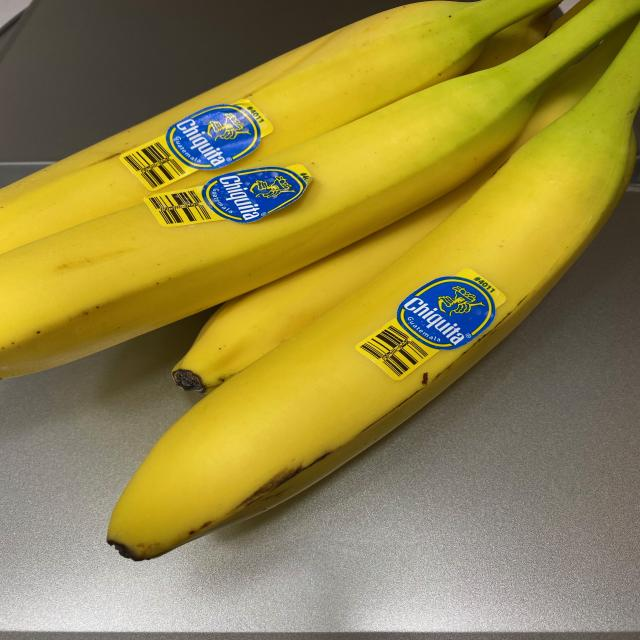banana: (8, 1, 636, 563)
